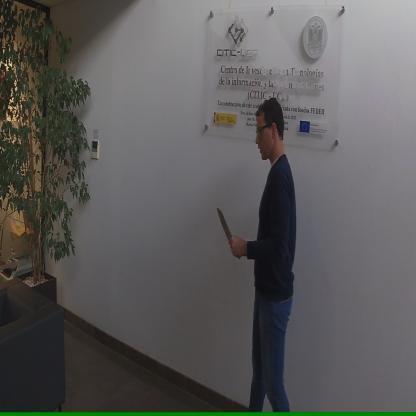knife: (215, 204, 241, 262)
